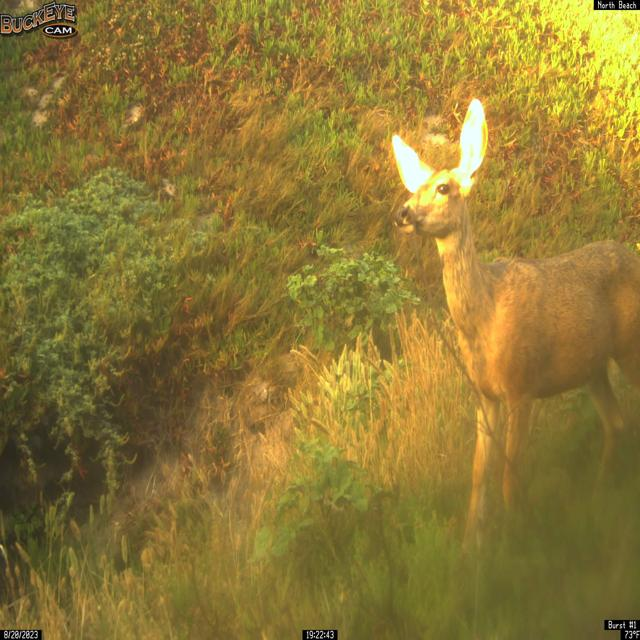deer: (390, 98, 640, 564)
